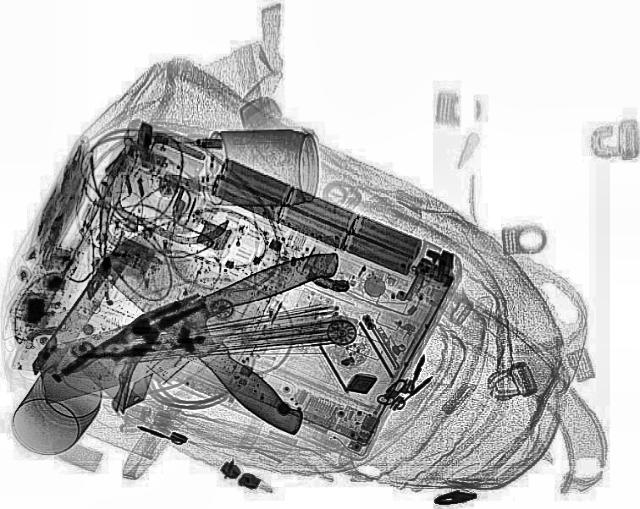Knife: (85, 219, 349, 447), (10, 249, 368, 406)
